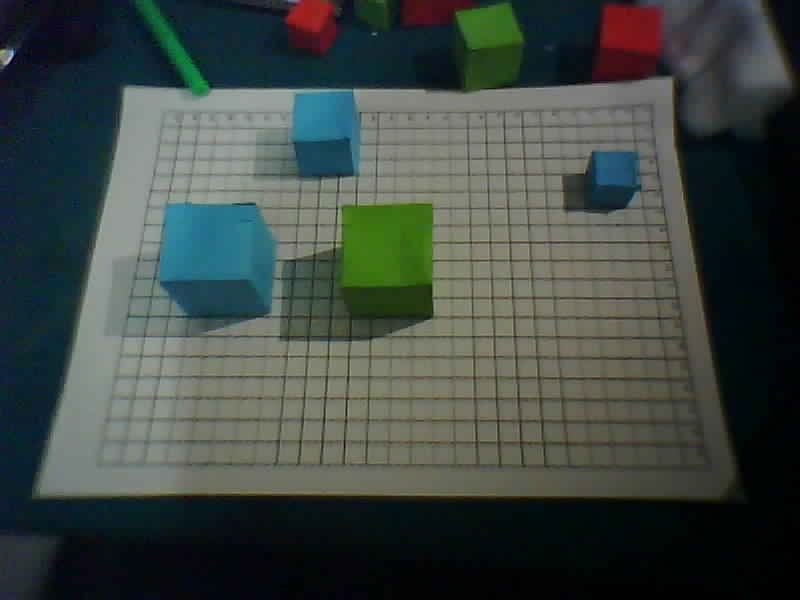LB: (94, 460, 102, 466)
LT: (160, 109, 168, 115)
RB: (702, 465, 710, 471)
RT: (648, 101, 656, 107)
